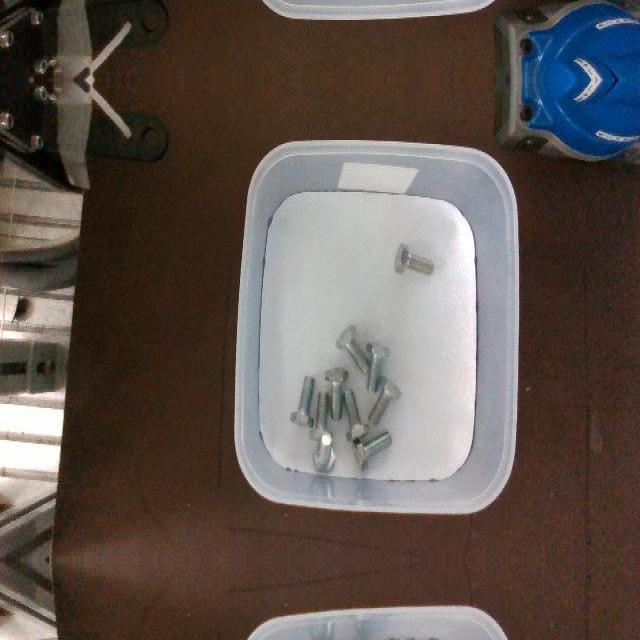screw: (335, 323, 371, 373), (369, 375, 402, 425), (352, 430, 392, 468), (290, 373, 316, 427), (394, 242, 434, 276), (344, 389, 369, 441), (366, 341, 391, 391), (325, 368, 348, 420), (312, 432, 336, 472)
